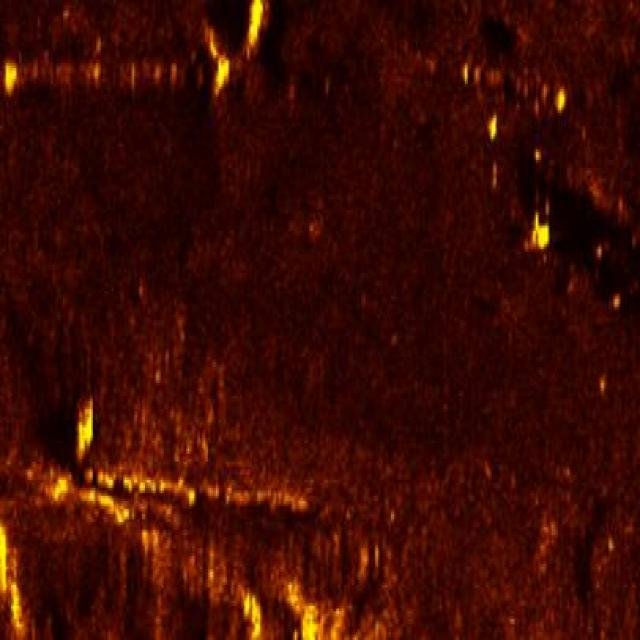other: (36, 396, 320, 580), (0, 2, 273, 92)
